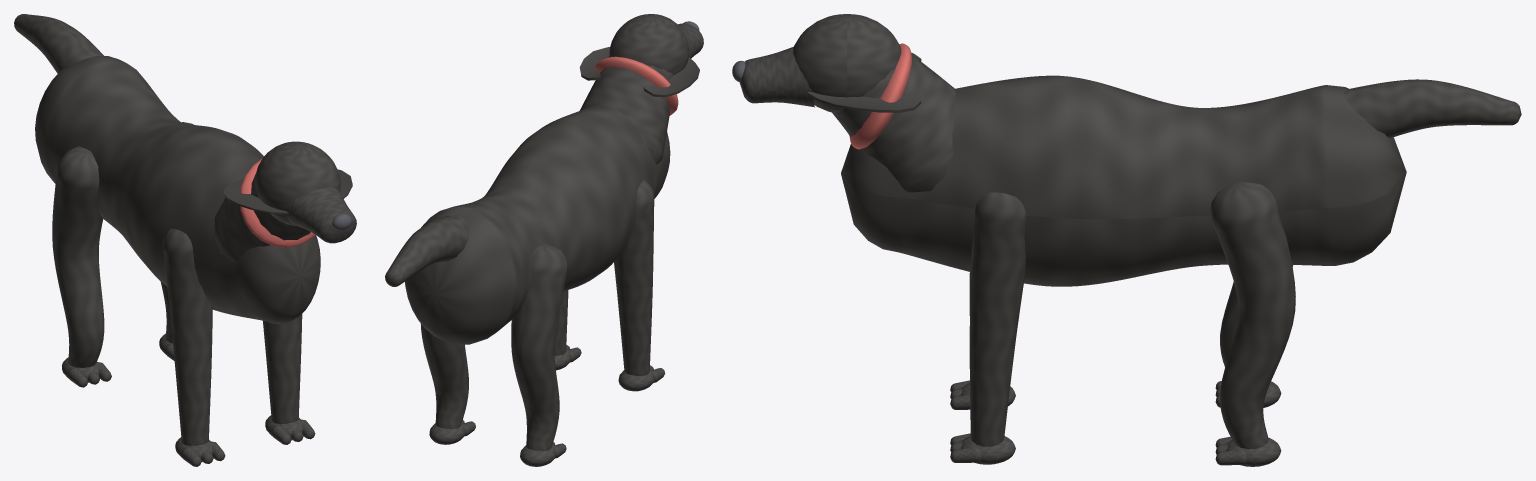
File: pets-and-companions-hd-labrador-retriever-black-49a4314c__28142.glb
3 renders of one model, left to right at view 1: azimuth 30°, elevation 25°; view 2: azimuth 150°, elevation 25°; view 3: azimuth 270°, elevation 25°, orthographic. The views are drawn at different scales.
Parts seen in each view (by area): view 1: labrador-retriever-black; view 2: labrador-retriever-black; view 3: labrador-retriever-black.
Part boxes in pixels (box(x1,y1,x2,y2)): labrador-retriever-black: box(14, 14, 356, 466); labrador-retriever-black: box(385, 14, 703, 466); labrador-retriever-black: box(732, 14, 1521, 466).
Size of the model in its own units: 0.3028 by 0.6849 by 1.18.
Materials: 3 (1 with a texture image).
